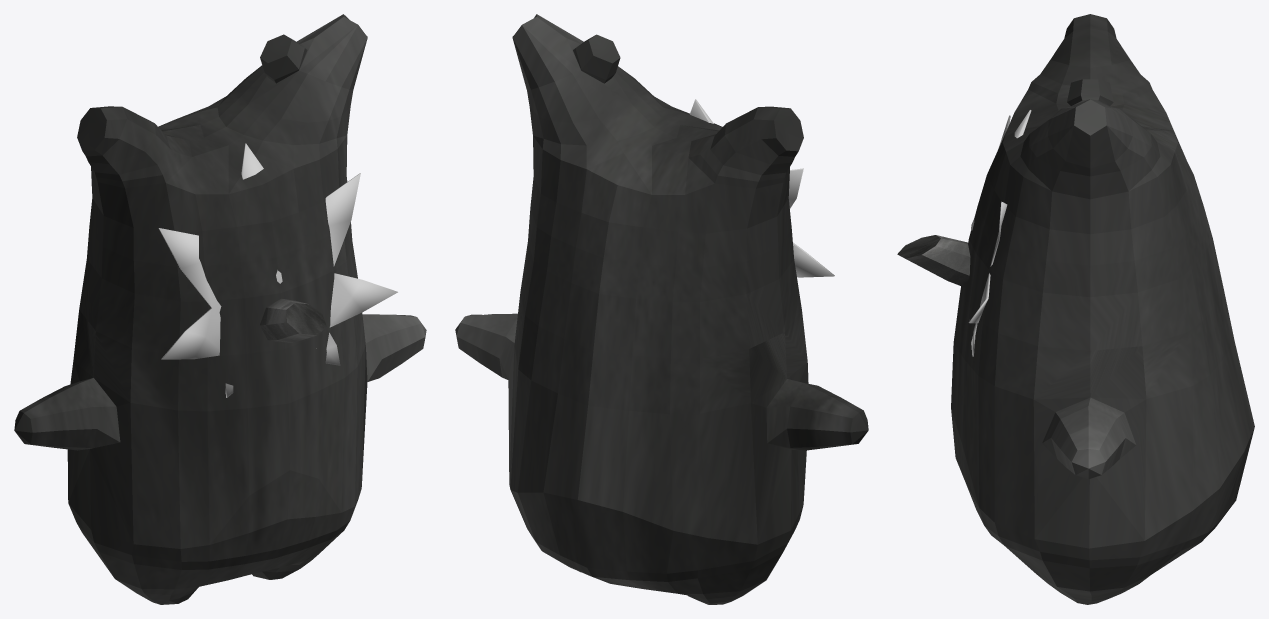
File: frame_0019.obj
3 views of the same model, side by side, from view 1: azimuth 30°, elevation 25°; view 2: azimuth 150°, elevation 25°; view 3: azimuth 270°, elevation 25° (orthographic).
Visible parts, largest first — view 1: korok, leaf.003_柱体.013, nose.003_柱体.011; view 2: korok, leaf.003_柱体.013; view 3: korok, nose.003_柱体.011, leaf.003_柱体.013.
Boxes of the visible parts, x1,y1,x2,y2 form: korok: (14, 14, 426, 604); leaf.003_柱体.013: (158, 143, 397, 397); nose.003_柱体.011: (260, 298, 326, 343); korok: (455, 14, 868, 604); leaf.003_柱体.013: (690, 99, 834, 277); korok: (951, 14, 1254, 604); nose.003_柱体.011: (897, 235, 970, 287); leaf.003_柱体.013: (968, 110, 1031, 356).
Size of the model in its own units: 1.83 by 2.3 by 1.39.
